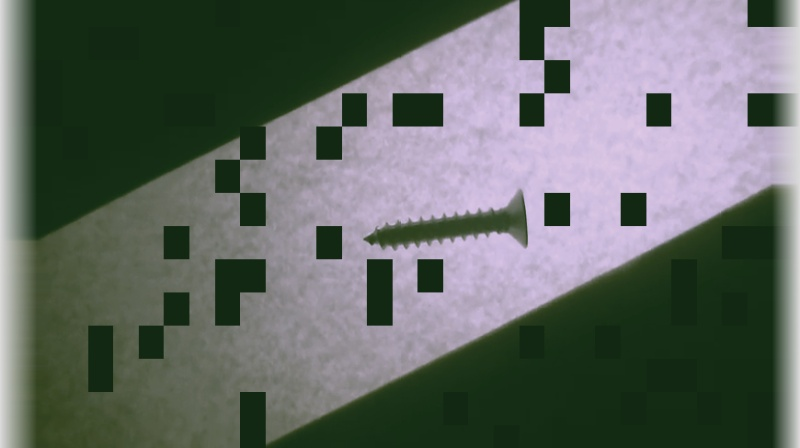S001: (357, 187, 530, 252)
